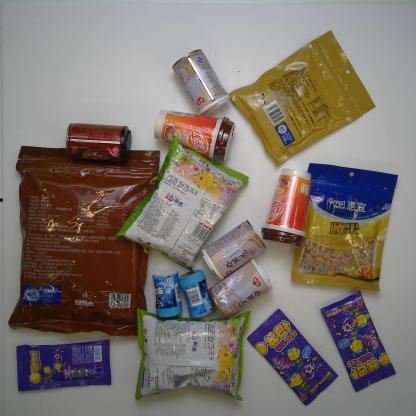Candy: (246, 310, 338, 406), (322, 290, 396, 392), (17, 339, 112, 391)
Canned Food: (172, 49, 230, 123), (202, 219, 266, 281), (209, 260, 271, 318), (65, 123, 132, 166)
Dried Food: (8, 145, 160, 337)
Dried Fruit: (230, 30, 376, 169), (291, 163, 399, 292)
Gum: (178, 268, 217, 318), (151, 271, 182, 318)
Instant Drink: (154, 108, 235, 164), (261, 168, 316, 247)
Puffed Food: (114, 135, 248, 271), (133, 308, 249, 401)
